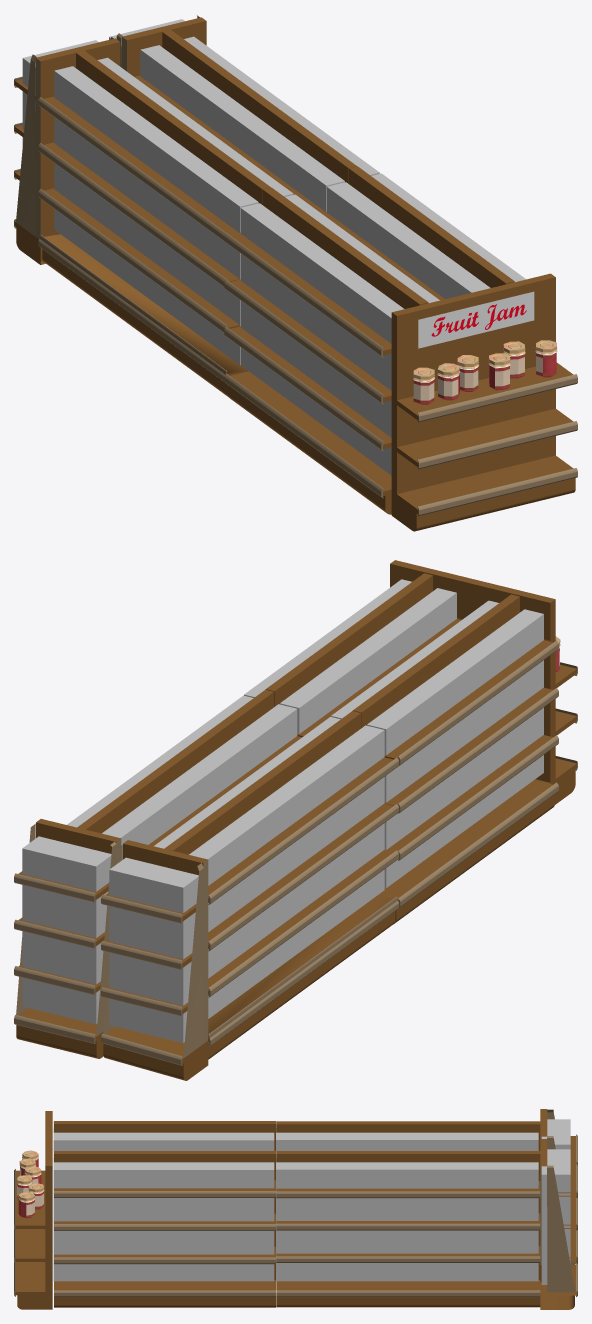
Rendered from Jam Racl model.fbx.
The picture shows the model from 3 angles, top to bottom: view 1: azimuth 30°, elevation 25°; view 2: azimuth 150°, elevation 25°; view 3: azimuth 270°, elevation 25°; orthographic projection. The views are drawn at different scales.
Visible parts, largest first — view 1: Bodyframe.005, Bodyframe.006, Bodyframe.002, Bodyframe.001, Bodyframe.011, node-0, node-0.001, node-0.005, node-0.003, Text, node-0.002; view 2: Bodyframe.005, Bodyframe.006, Bodyframe.001, Bodyframe.011, Bodyframe.002; view 3: Bodyframe.001, Bodyframe.011, Bodyframe.005, Bodyframe.006, Bodyframe.002, node-0.005, node-0.004.
Part boxes in pixels (x1,y1,x2,y2): Bodyframe.005: (14,36,293,397); Bodyframe.006: (224,187,439,514); Bodyframe.002: (391,273,577,531); Bodyframe.001: (109,15,379,212); Bodyframe.011: (321,166,525,300); node-0: (413,367,435,404); node-0.001: (437,363,460,400); node-0.005: (535,340,557,377); node-0.003: (488,353,510,390); Text: (431,304,526,336); node-0.002: (457,355,479,391); Bodyframe.005: (101,711,398,1080); Bodyframe.006: (331,594,558,923); Bodyframe.001: (14,689,301,1058); Bodyframe.011: (244,573,461,737); Bodyframe.002: (390,560,577,804); Bodyframe.001: (276,1139,577,1309); Bodyframe.011: (53,1151,275,1307); Bodyframe.005: (276,1109,577,1264); Bodyframe.006: (53,1121,275,1150); Bodyframe.002: (14,1111,52,1309); node-0.005: (18,1191,35,1218); node-0.004: (28,1183,44,1209).
Bounding box in the file's own units: 674 × 764 × 2709.
